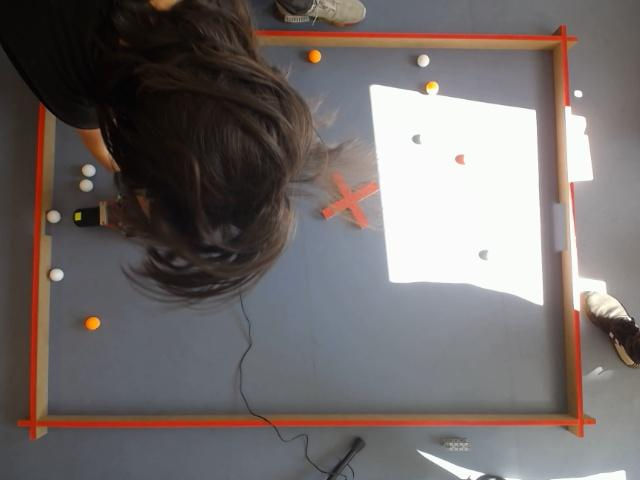orange: (425, 80, 440, 97), (85, 316, 101, 331), (309, 48, 321, 65)
white: (576, 470, 630, 480), (592, 469, 628, 480), (46, 209, 61, 224), (81, 163, 96, 178), (49, 268, 64, 282), (417, 53, 430, 68), (79, 180, 94, 193)
